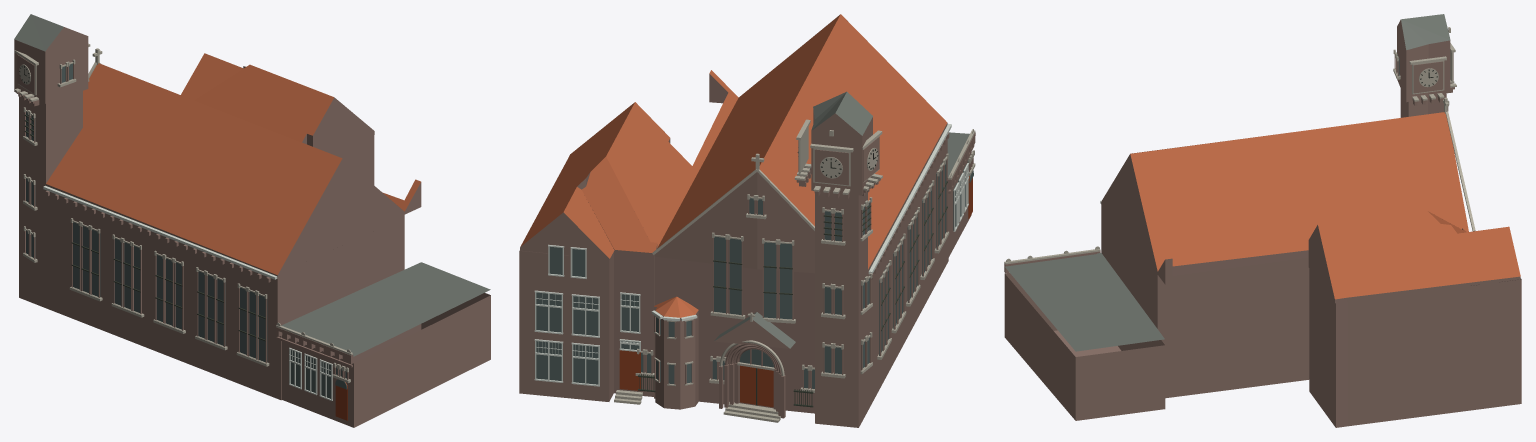
Rendered from ruysdael-petrus-pauluskerk.glb.
The picture shows the model from 3 angles, left to right: view 1: azimuth 30°, elevation 25°; view 2: azimuth 150°, elevation 25°; view 3: azimuth 270°, elevation 25°; orthographic projection. The views are drawn at different scales.
Parts seen in each view (by area): view 1: ruysdael-petrus-pauluskerk; view 2: ruysdael-petrus-pauluskerk; view 3: ruysdael-petrus-pauluskerk.
Part boxes in pixels (x1,y1,x2,y2): ruysdael-petrus-pauluskerk: (14, 14, 490, 427); ruysdael-petrus-pauluskerk: (519, 14, 975, 427); ruysdael-petrus-pauluskerk: (1004, 14, 1521, 427).
Size of the model in its own units: 24.33 by 20.7 by 35.36.
